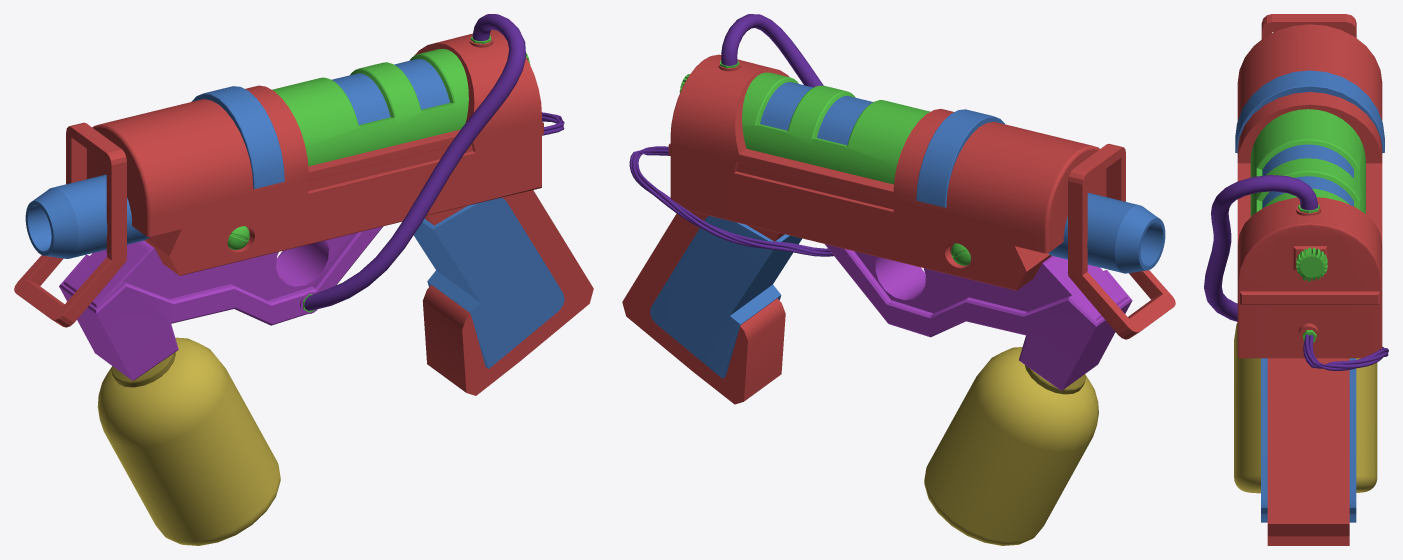
Rendered from Pistol3.fbx.
3 renders of one model, left to right at view 1: azimuth 30°, elevation 25°; view 2: azimuth 150°, elevation 25°; view 3: azimuth 270°, elevation 25°, orthographic. The views are drawn at different scales.
Parts seen in each view (by area): view 1: polySurface1, polySurface7, pCube2, pCylinder1, polySurface4, polySurface3, pCube3, pCylinder10, pCylinder2, polySurface2, polySurface8; view 2: polySurface1, polySurface7, pCube2, pCylinder1, polySurface4, polySurface3, pCube3, pCylinder2, polySurface2, pCylinder6, pCylinder10; view 3: polySurface1, polySurface3, pCylinder1, polySurface7, pCylinder10, polySurface2, polySurface4, pCube3, pCylinder6, pCylinder3.
Part boxes in pixels (x1=…): polySurface1: x1=87, y1=29, x2=543, y2=275; polySurface7: x1=97, y1=337, x2=280, y2=545; pCube2: x1=59, y1=226, x2=382, y2=380; pCylinder1: x1=272, y1=48, x2=468, y2=166; polySurface4: x1=413, y1=197, x2=564, y2=368; polySurface3: x1=422, y1=190, x2=593, y2=395; pCube3: x1=14, y1=122, x2=126, y2=327; pCylinder10: x1=304, y1=14, x2=526, y2=310; pCylinder2: x1=25, y1=174, x2=149, y2=258; polySurface2: x1=191, y1=86, x2=284, y2=188; polySurface8: x1=111, y1=352, x2=175, y2=387; polySurface1: x1=668, y1=54, x2=1106, y2=290; polySurface7: x1=924, y1=347, x2=1098, y2=545; pCube2: x1=825, y1=244, x2=1132, y2=390; pCylinder1: x1=742, y1=72, x2=930, y2=184; polySurface4: x1=650, y1=216, x2=802, y2=378; polySurface3: x1=622, y1=211, x2=785, y2=404; pCube3: x1=1068, y1=143, x2=1175, y2=339; pCylinder2: x1=1048, y1=193, x2=1165, y2=273; polySurface2: x1=916, y1=109, x2=1004, y2=207; pCylinder6: x1=629, y1=146, x2=833, y2=256; pCylinder10: x1=721, y1=14, x2=823, y2=87; polySurface1: x1=1237, y1=24, x2=1382, y2=358; polySurface3: x1=1267, y1=358, x2=1349, y2=545; pCylinder1: x1=1250, y1=109, x2=1365, y2=216; polySurface7: x1=1234, y1=322, x2=1377, y2=493; pCylinder10: x1=1204, y1=175, x2=1318, y2=321; polySurface2: x1=1235, y1=70, x2=1384, y2=153; polySurface4: x1=1261, y1=358, x2=1356, y2=522; pCube3: x1=1261, y1=14, x2=1356, y2=39; pCylinder6: x1=1303, y1=334, x2=1388, y2=370; pCylinder3: x1=1296, y1=247, x2=1327, y2=281.
Bounding box in the file's own units: 5.56 × 4.49 × 1.58.
